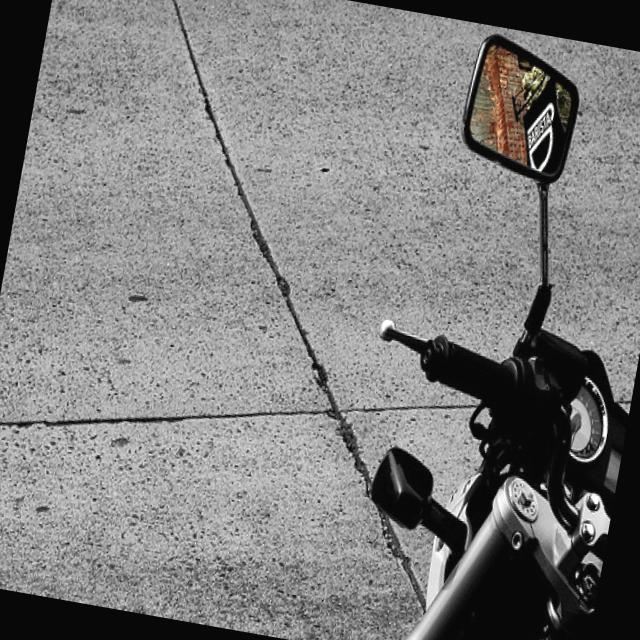Vehicle: (326, 18, 640, 640)
